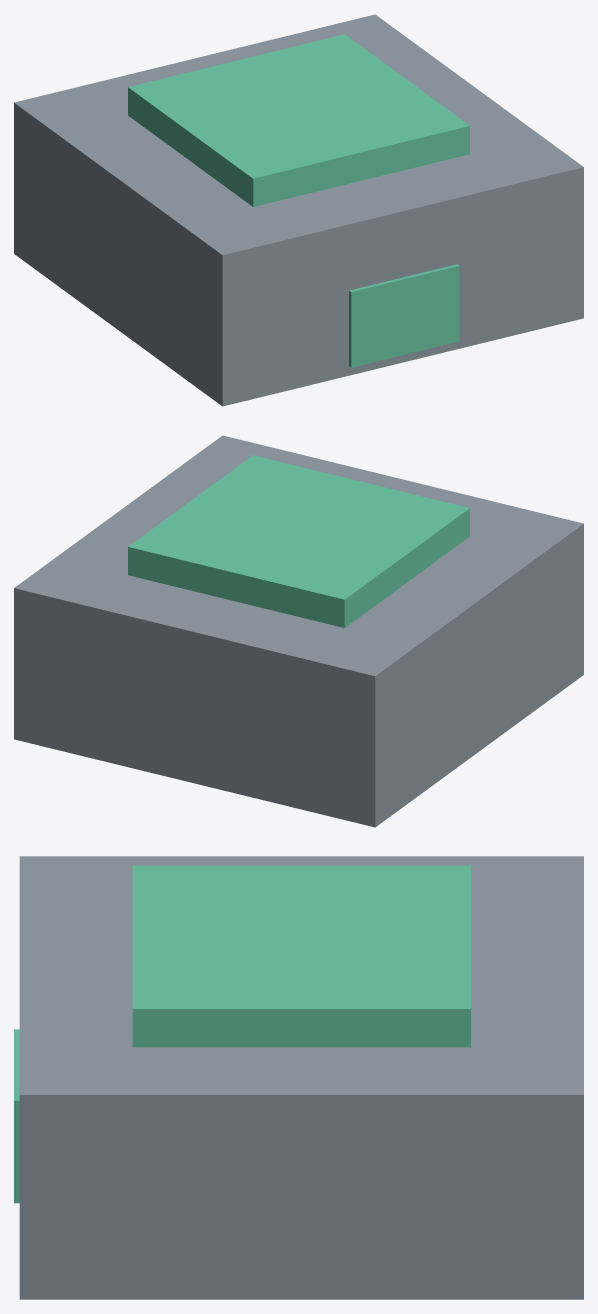
File: CO_NavalYard_LOD0.glb
3 views of the same model, one above another, from view 1: azimuth 30°, elevation 25°; view 2: azimuth 150°, elevation 25°; view 3: azimuth 270°, elevation 25° (orthographic). The views are drawn at different scales.
Visible parts, largest first — view 1: EntranceGate; view 2: EntranceGate; view 3: EntranceGate.
Boxes of the visible parts, box(x1,y1,x2,y2) form: EntranceGate: box(14, 14, 583, 406); EntranceGate: box(14, 435, 583, 827); EntranceGate: box(14, 856, 583, 1299).
Size of the model in its own units: 1000 by 475 by 1010.
